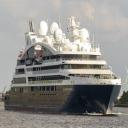cruises: (4, 15, 124, 118)
